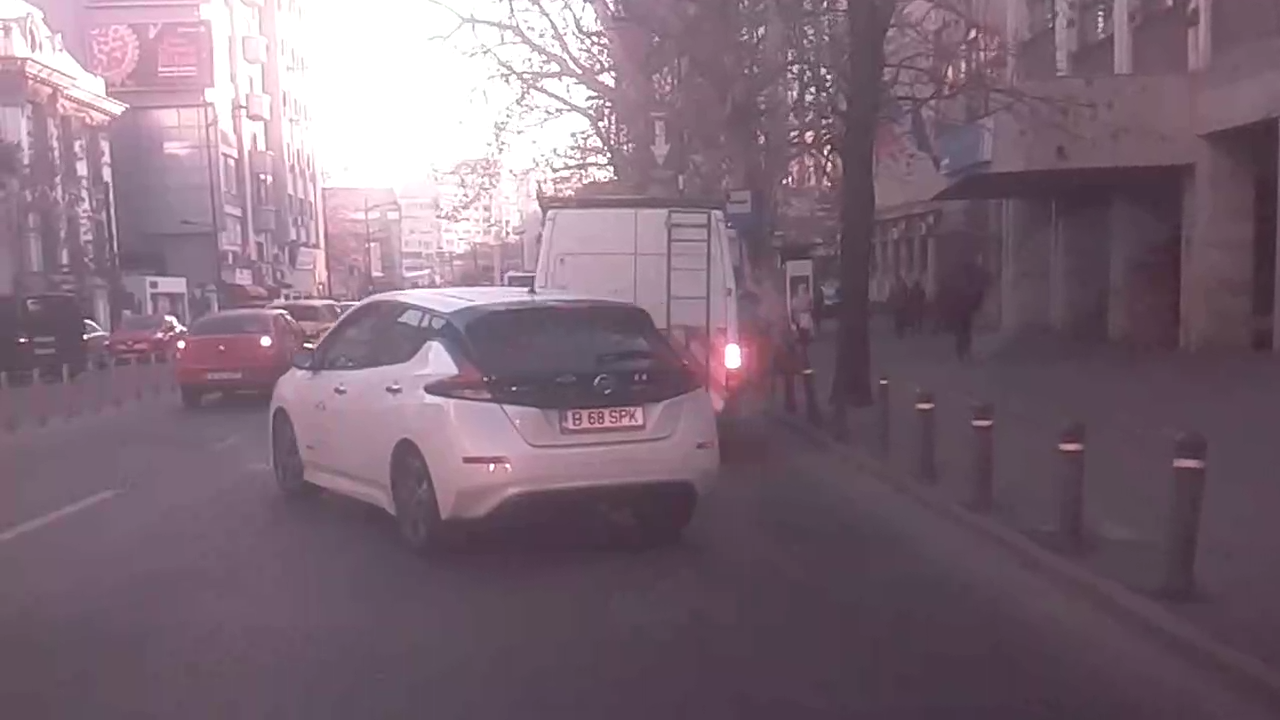license-plate: (556, 398, 648, 434)
